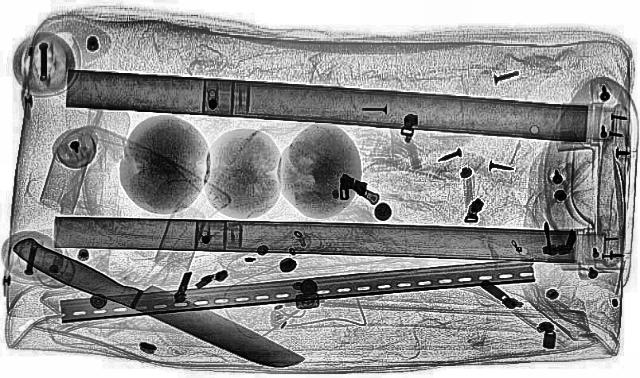Knife: (1, 232, 316, 376)
